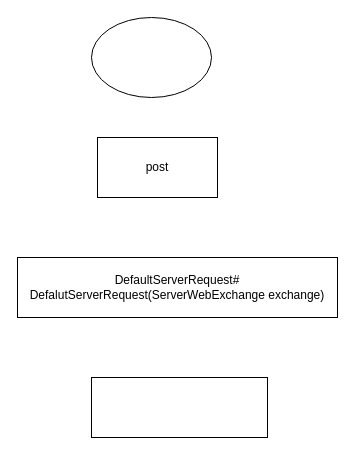
Some shapes in this 355 by 455 pixel diagram are drawn without their labels. The shapes that lost their labels are listed below. From the top down, each one's centre as x and y in pixels, then its label:
At (x=151, y=57): "start".
At (x=179, y=407): "HttpMessageReader<T> interface".
